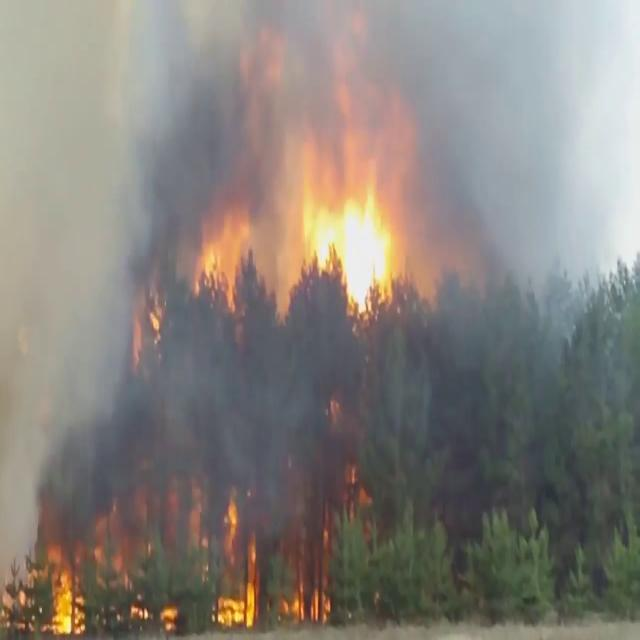Fire: (304, 174, 396, 317), (194, 194, 256, 314), (210, 490, 262, 630), (32, 532, 90, 636), (280, 557, 334, 630)
Smoke: (1, 1, 322, 590), (372, 0, 638, 407)
